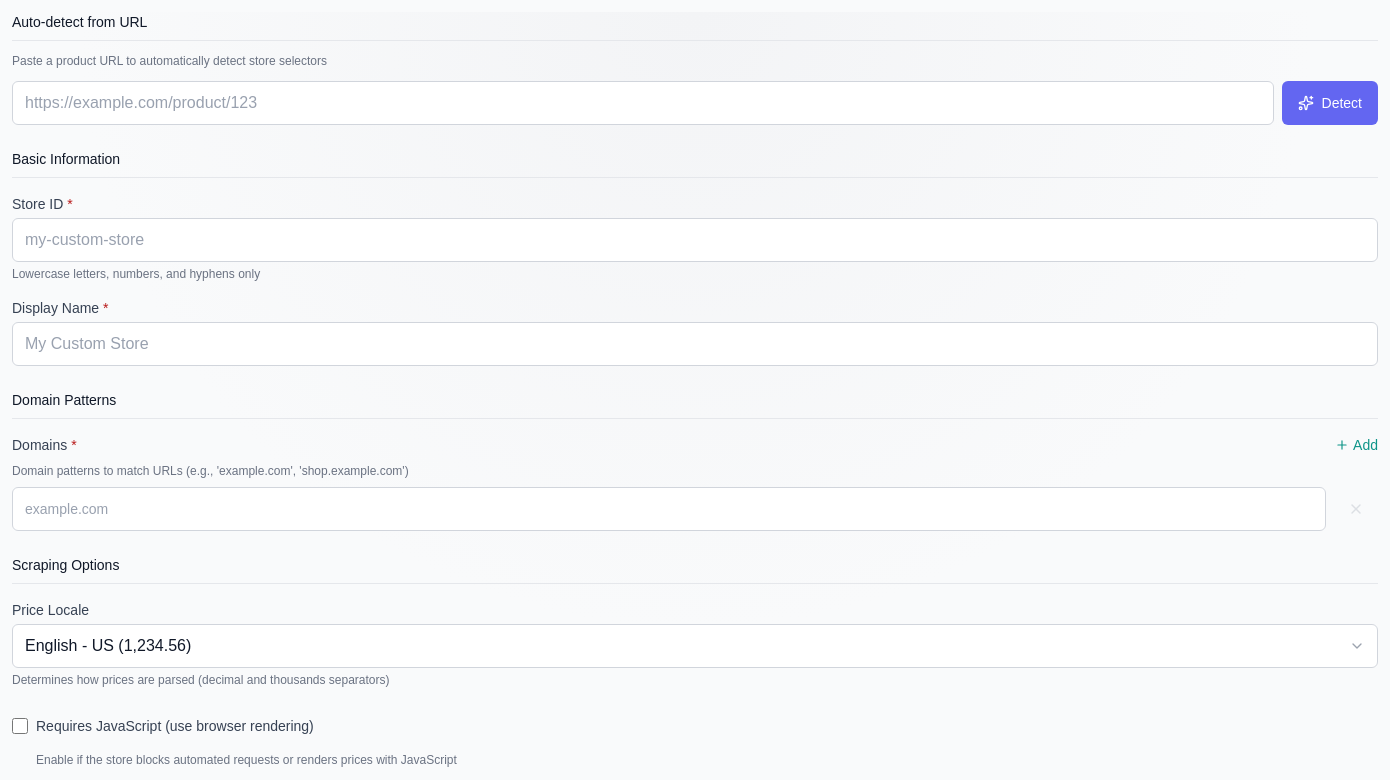
Test case: StoreForm › auto-detect › should show error on failed detection
Type "https://example.com/not-a-product" into the field with test id "detect-url-input" at [643, 103], box left=12, top=81, right=1274, bottom=125
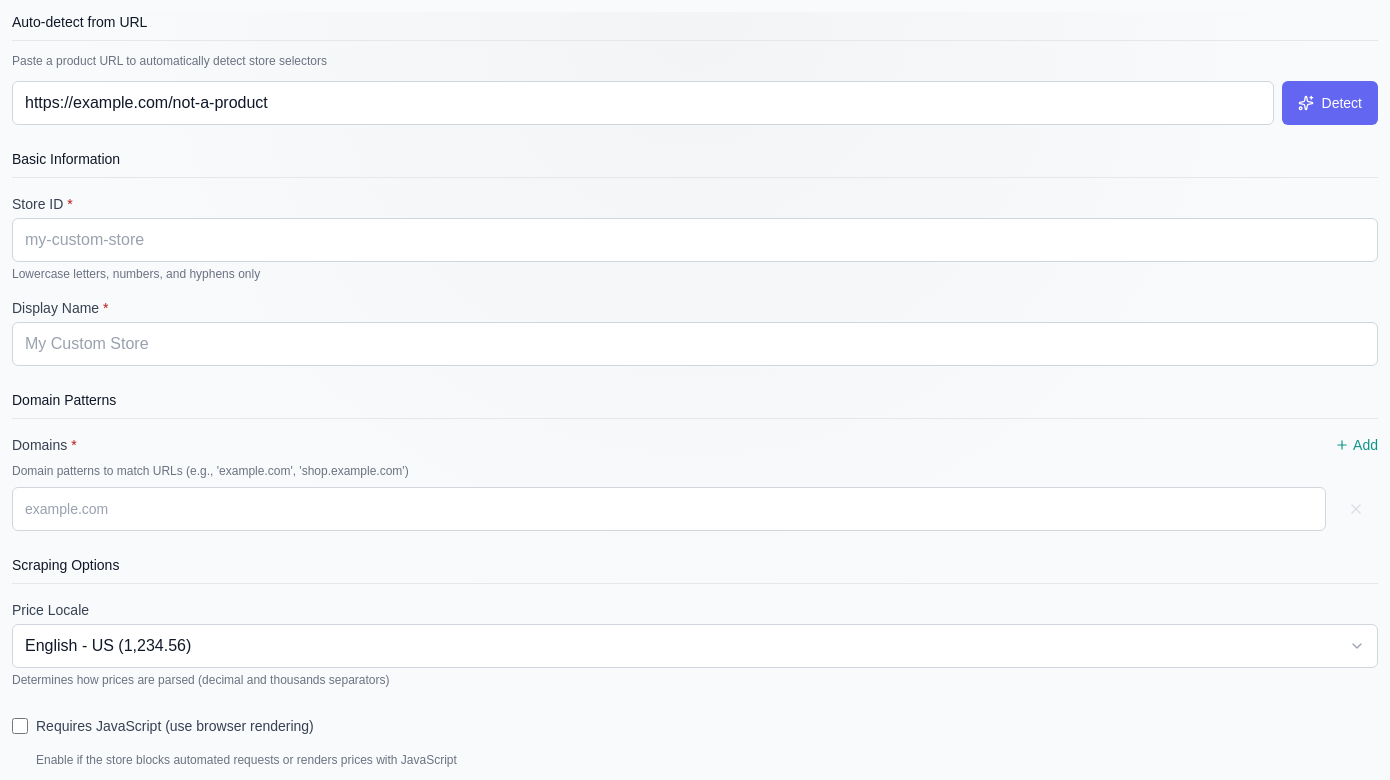
Click the button with test id "detect-button" at [1330, 103], box left=1282, top=81, right=1378, bottom=125
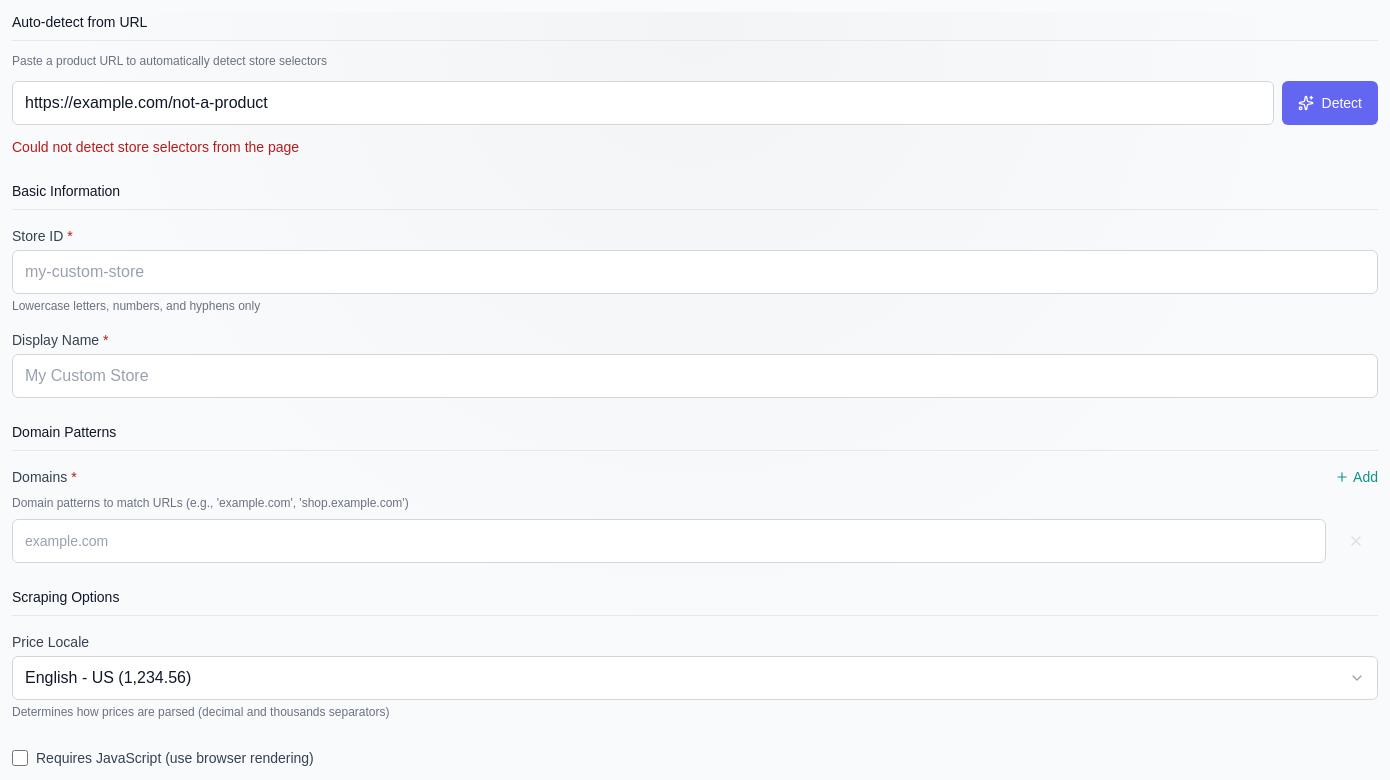
Result: the message reads "Could not detect store selectors from the page" at left=12, top=139, right=299, bottom=155
